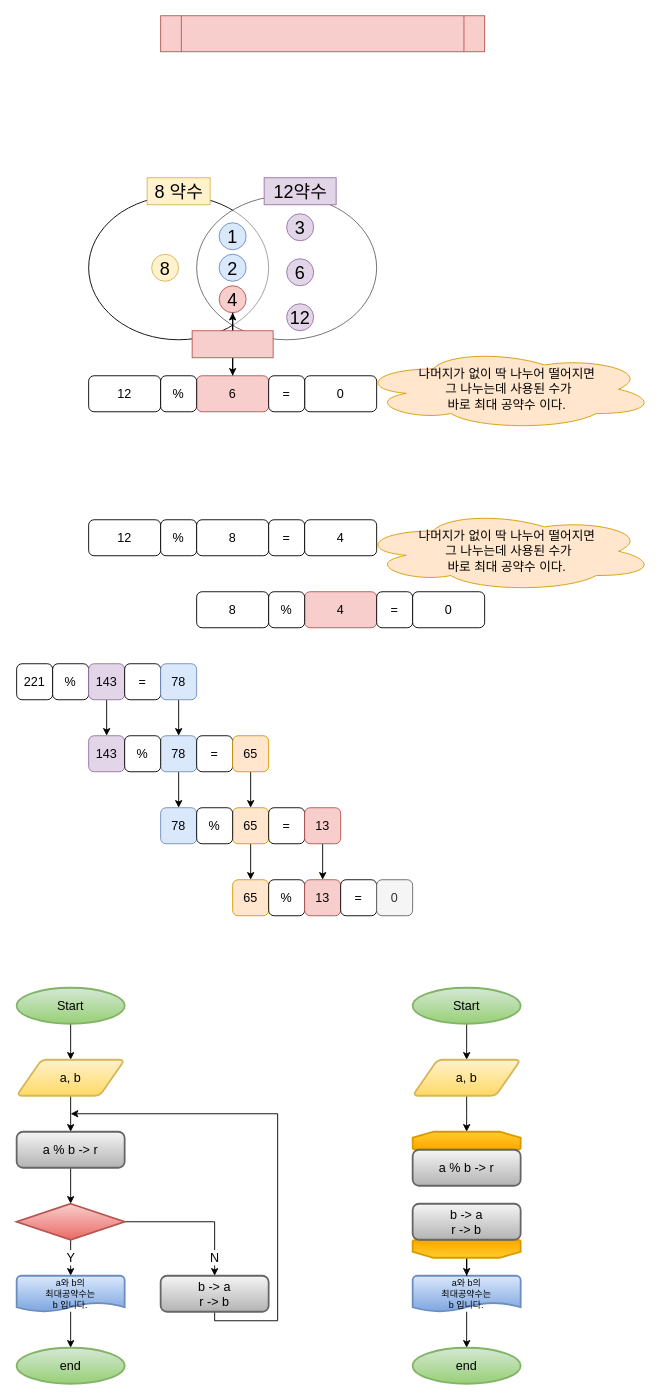
This 671x1400 diagram has some shape labels left out. Here are the shapes that lost their labels. From the top down, the centre of each, then its label:
point 322,33: Euclidean Algorithms
point 232,344: 최대공약수
point 466,1140: r != 0
point 70,1221: r -> 0
